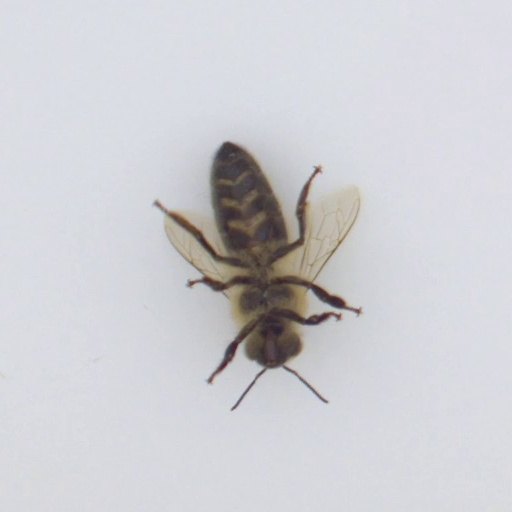Bee: (193, 133, 313, 375)
